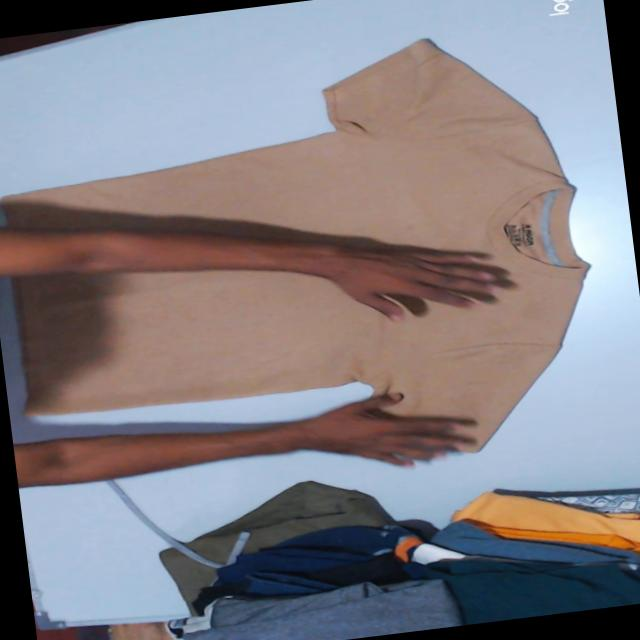new-garment: (2, 40, 586, 448)
